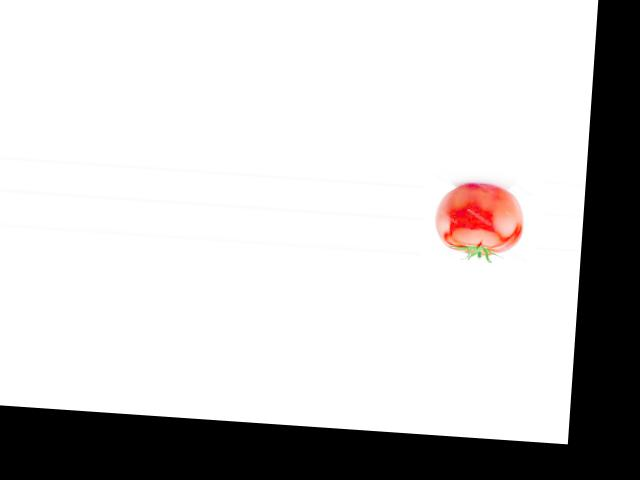tomato: (433, 182, 526, 257)
